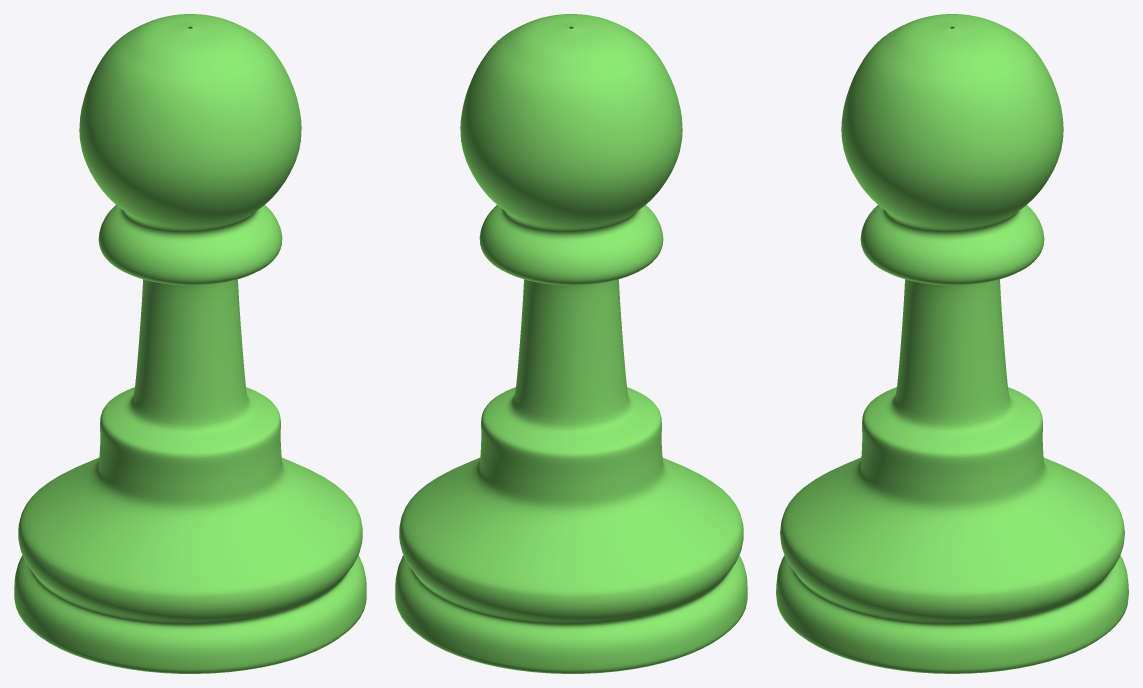
Rendered from pawn8.gltf.
3 views of the same model, side by side, from view 1: azimuth 30°, elevation 25°; view 2: azimuth 150°, elevation 25°; view 3: azimuth 270°, elevation 25° (orthographic).
Visible parts, largest first — view 1: Vert.018; view 2: Vert.018; view 3: Vert.018.
Part boxes in pixels (x1=…): Vert.018: x1=14, y1=14, x2=366, y2=673; Vert.018: x1=395, y1=14, x2=747, y2=673; Vert.018: x1=776, y1=14, x2=1128, y2=673.
Bounding box in the file's own units: 9.16 × 16.58 × 9.16.
